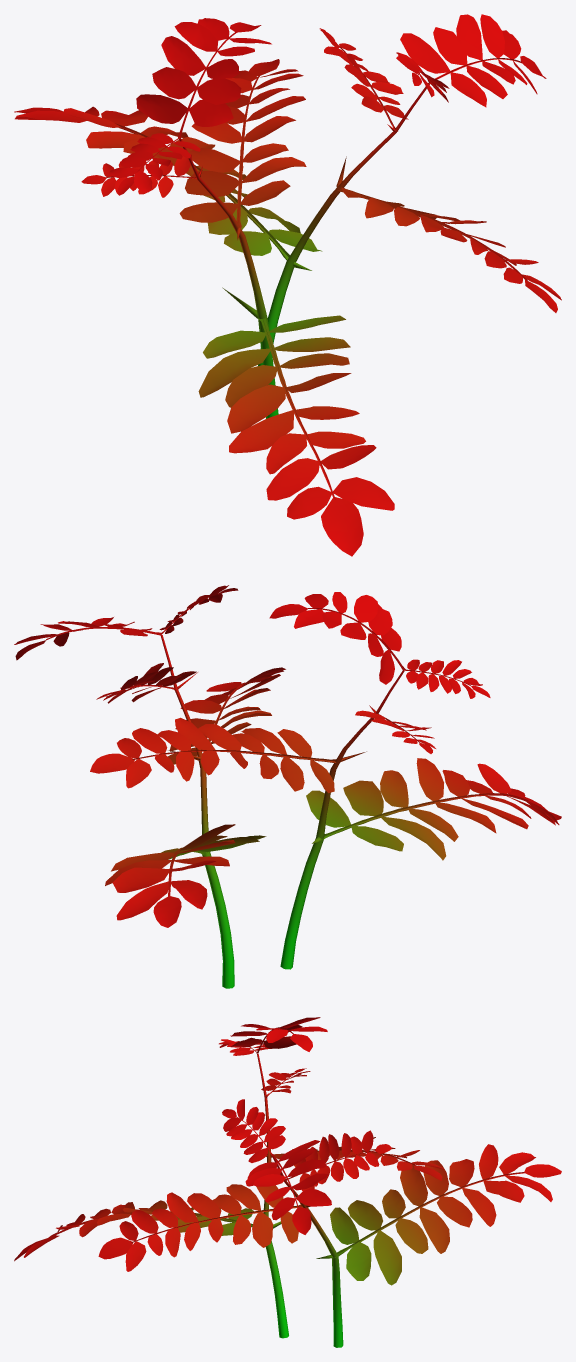
File: Black Locust_LOD0_Var5.fbx
3 views of the same model, one above another, from view 1: azimuth 30°, elevation 25°; view 2: azimuth 150°, elevation 25°; view 3: azimuth 270°, elevation 25° (orthographic). The views are drawn at different scales.
Visible parts, largest first — view 1: _nncw_Var5_LOD0; view 2: _nncw_Var5_LOD0; view 3: _nncw_Var5_LOD0.
Boxes of the visible parts, box(x1,y1,x2,y2) form: _nncw_Var5_LOD0: box(14, 14, 561, 556); _nncw_Var5_LOD0: box(14, 585, 561, 988); _nncw_Var5_LOD0: box(14, 1017, 561, 1347).
Size of the model in its own units: 20.4 by 17.18 by 28.61.
